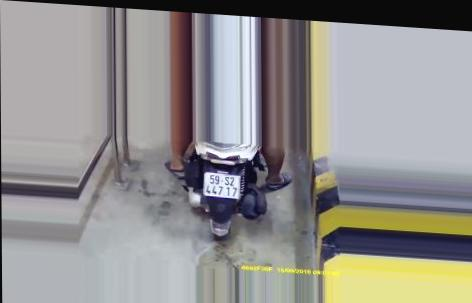License_Plate: (201, 168, 241, 201)
